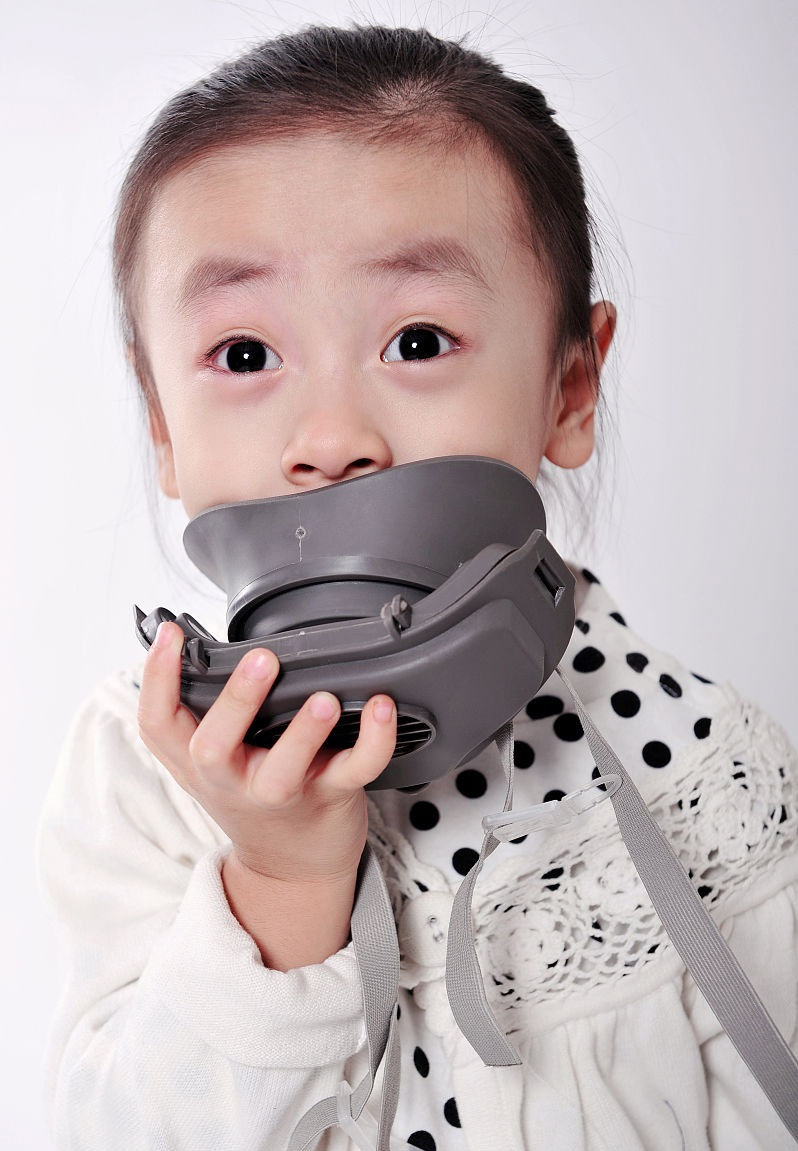face_mask: (144, 139, 526, 677)
